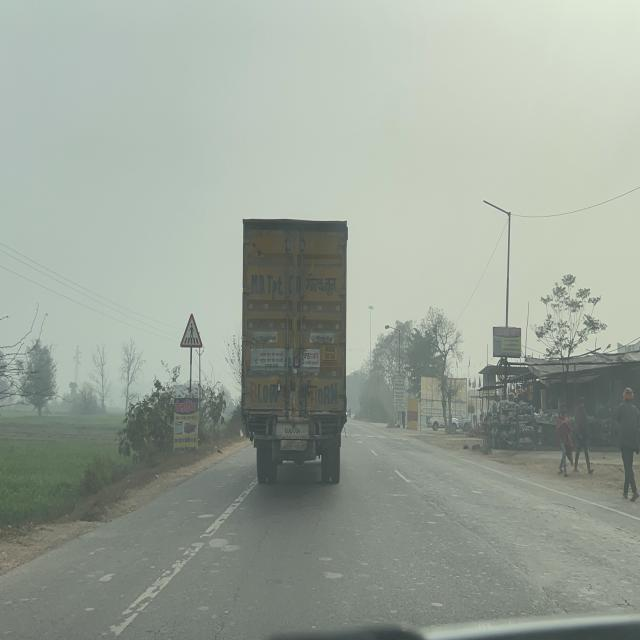PEDESTRIAN_CROSSING: (180, 313, 203, 348)
